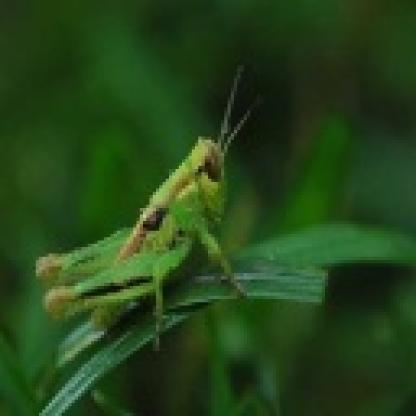grasshopper: (40, 65, 283, 324)
